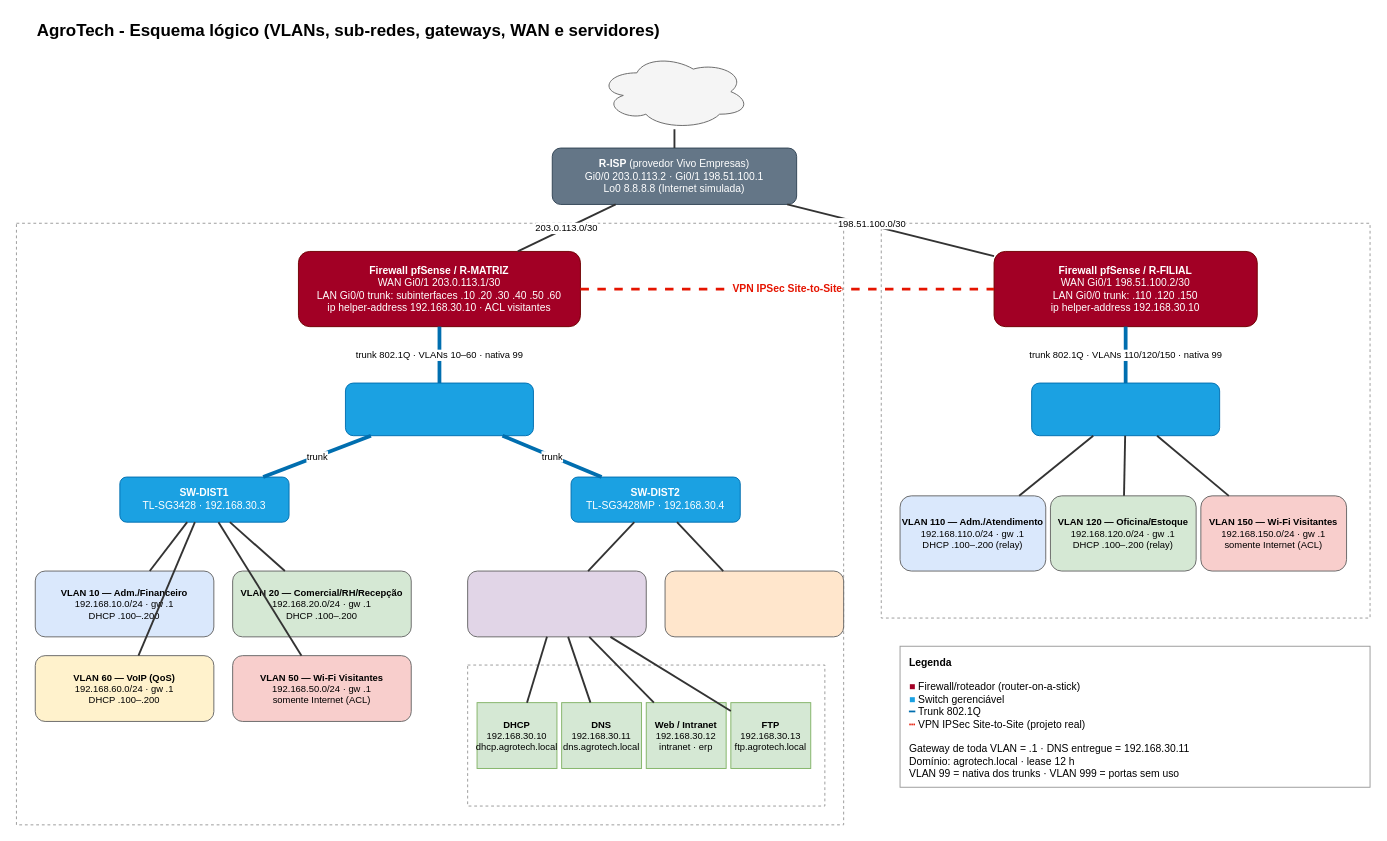
Image size: 1387x841. Some labels were removed from this diagram. Here are the shapes that lost their labels. From the top down, the box of each, then its label:
(598, 53, 750, 129): Internet
(345, 382, 533, 436): SW-CORE Cisco CBS350-48T (PT: 2960) gerência 192.168.30.2
(880, 222, 1370, 618): FILIAL — Anápolis
(1031, 382, 1220, 436): SW-FILIAL TL-SG3428 (PT: 2960) gerência 192.168.110.2
(16, 222, 844, 825): MATRIZ — Goiânia
(467, 570, 646, 637): VLAN 30 — TI/Servidores 192.168.30.0/24 · gw .1 DHCP .100–.200
(664, 570, 844, 637): VLAN 40 — Câmeras/IoT 192.168.40.0/24 · gw .1 isolada (só NVR)
(467, 664, 825, 806): Servidores (containers Docker / Server-PT)
